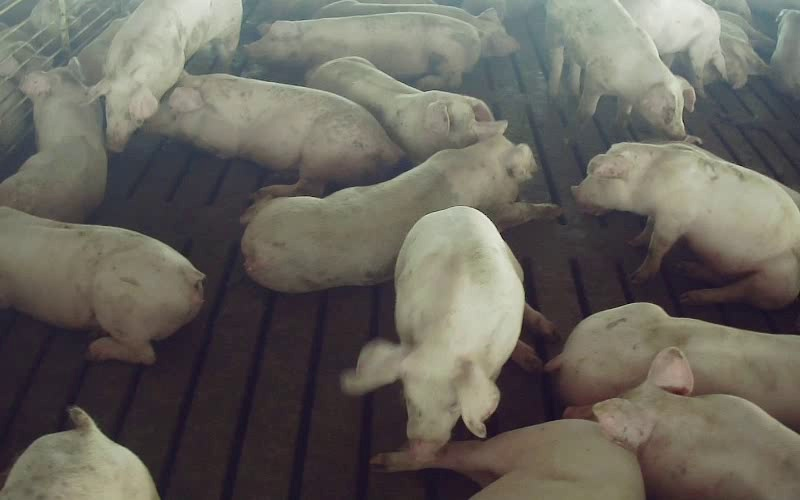pig: (341, 207, 556, 459), (241, 134, 561, 292), (572, 143, 799, 308), (564, 347, 799, 499), (545, 303, 799, 430), (144, 74, 403, 198), (306, 57, 506, 161), (546, 0, 695, 138), (244, 12, 480, 89), (0, 59, 106, 222), (315, 0, 518, 55), (620, 0, 726, 94)
